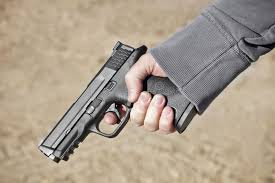gun: (37, 41, 198, 168)
